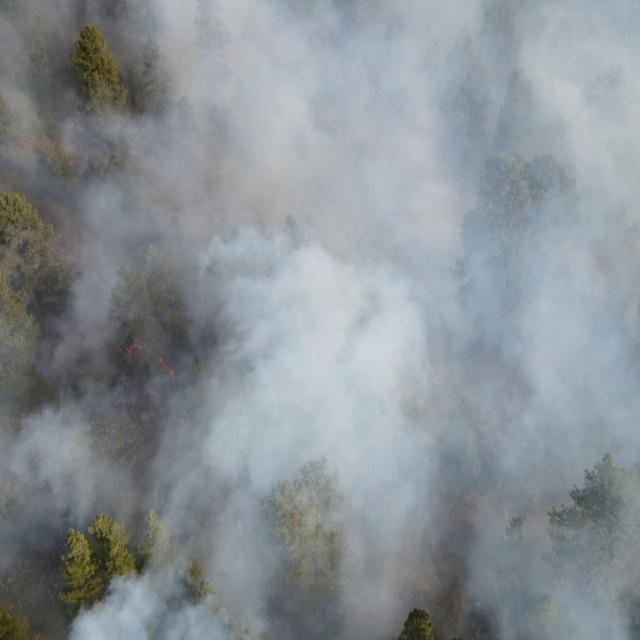fire: (114, 337, 178, 382)
smoke: (0, 0, 640, 640)
